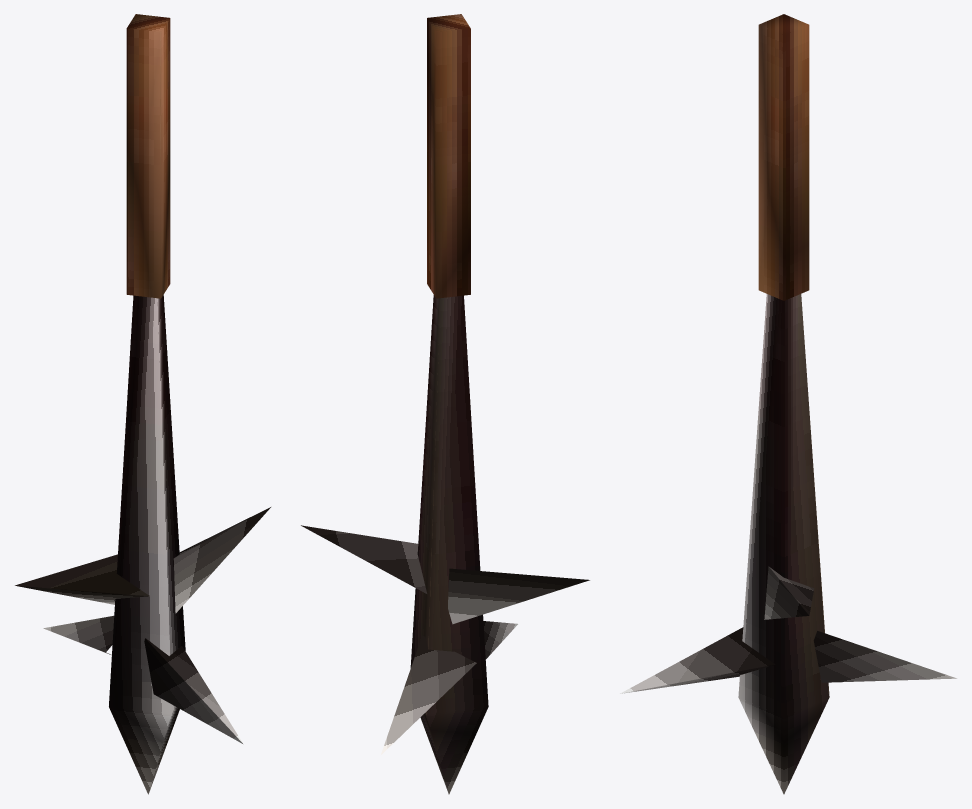
File: Mace01.glb
The picture shows the model from 3 angles, left to right: view 1: azimuth 30°, elevation 25°; view 2: azimuth 150°, elevation 25°; view 3: azimuth 270°, elevation 25°; orthographic projection.
Parts seen in each view (by area): view 1: model_Mace01; view 2: model_Mace01; view 3: model_Mace01.
Boxes of the visible parts, x1,y1,x2,y2 form: model_Mace01: [15, 14, 270, 794]; model_Mace01: [301, 14, 589, 794]; model_Mace01: [620, 14, 956, 794].
Size of the model in its own units: 0.4083 by 1.1 by 0.4374.
1 material, 1 textured.
